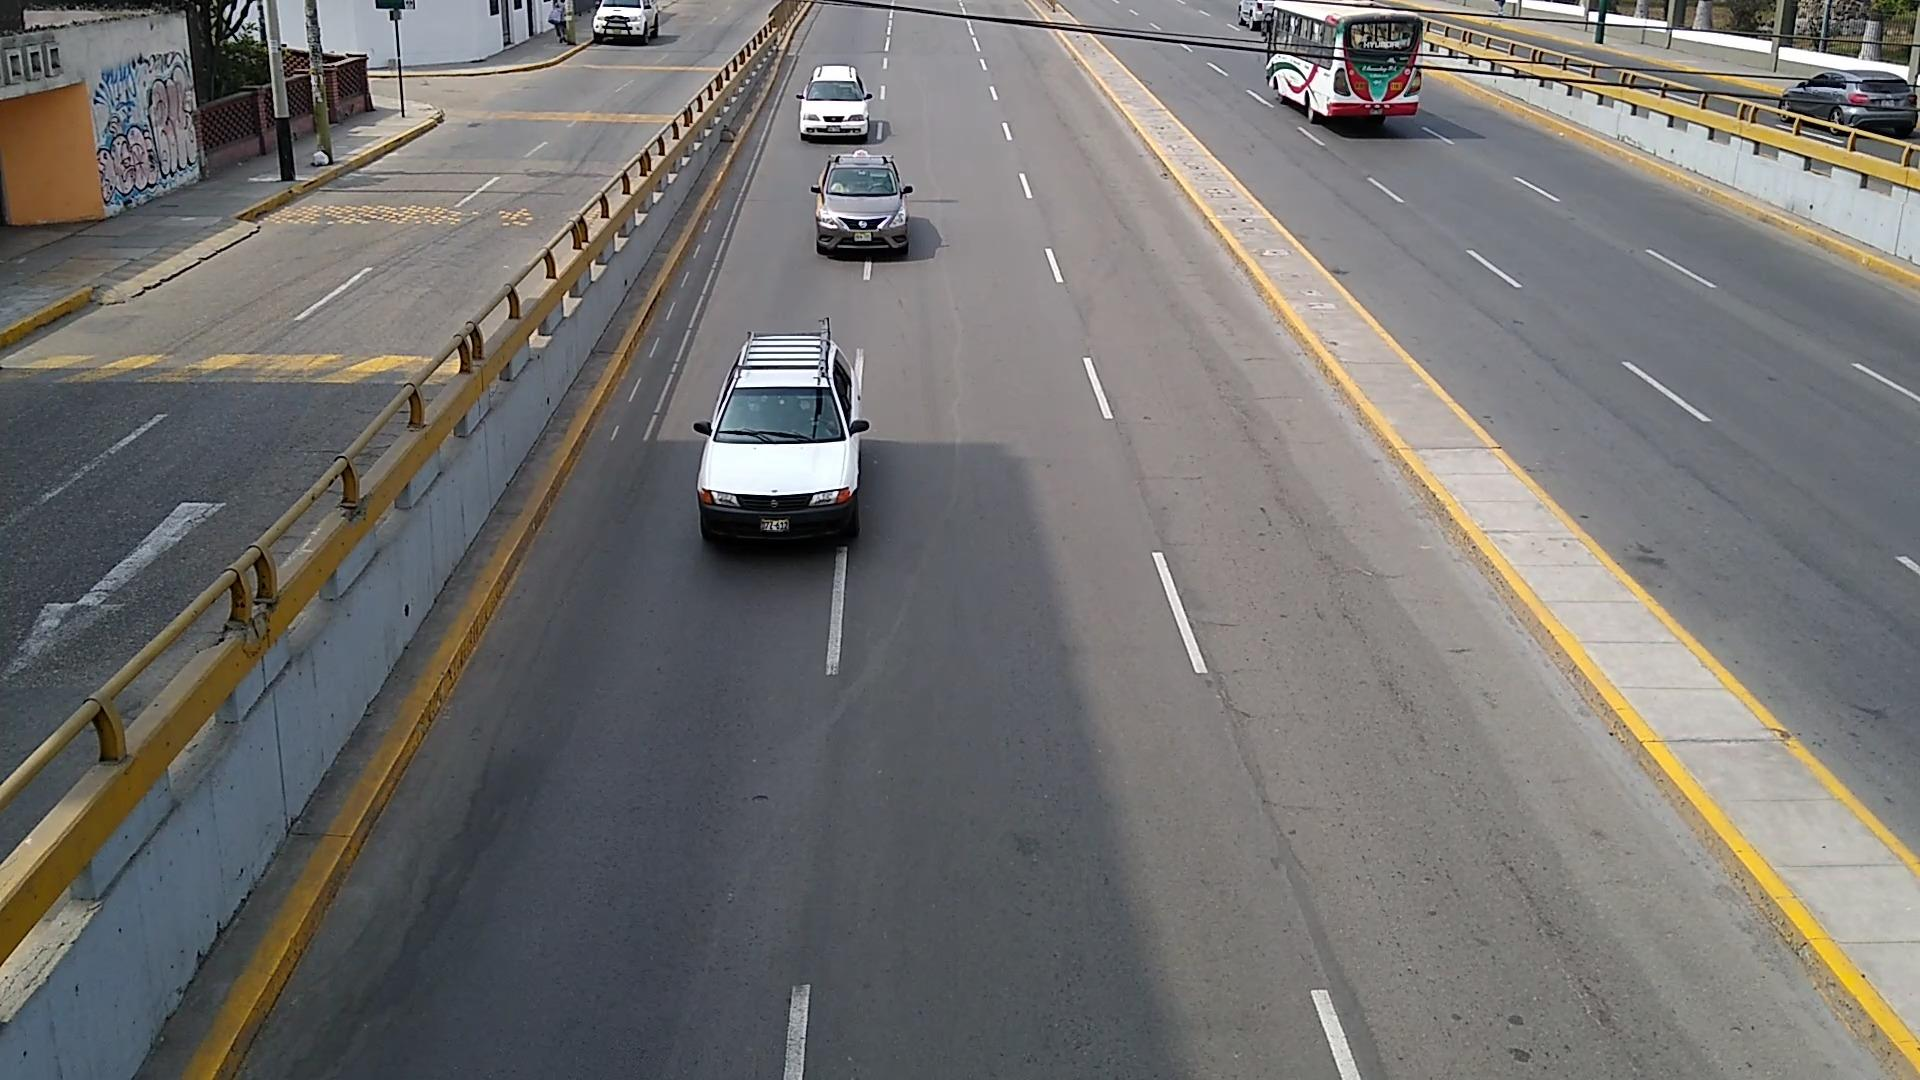bus: (1267, 0, 1425, 120)
car: (694, 319, 870, 541), (810, 150, 911, 255), (799, 63, 870, 138), (281, 0, 301, 45)
